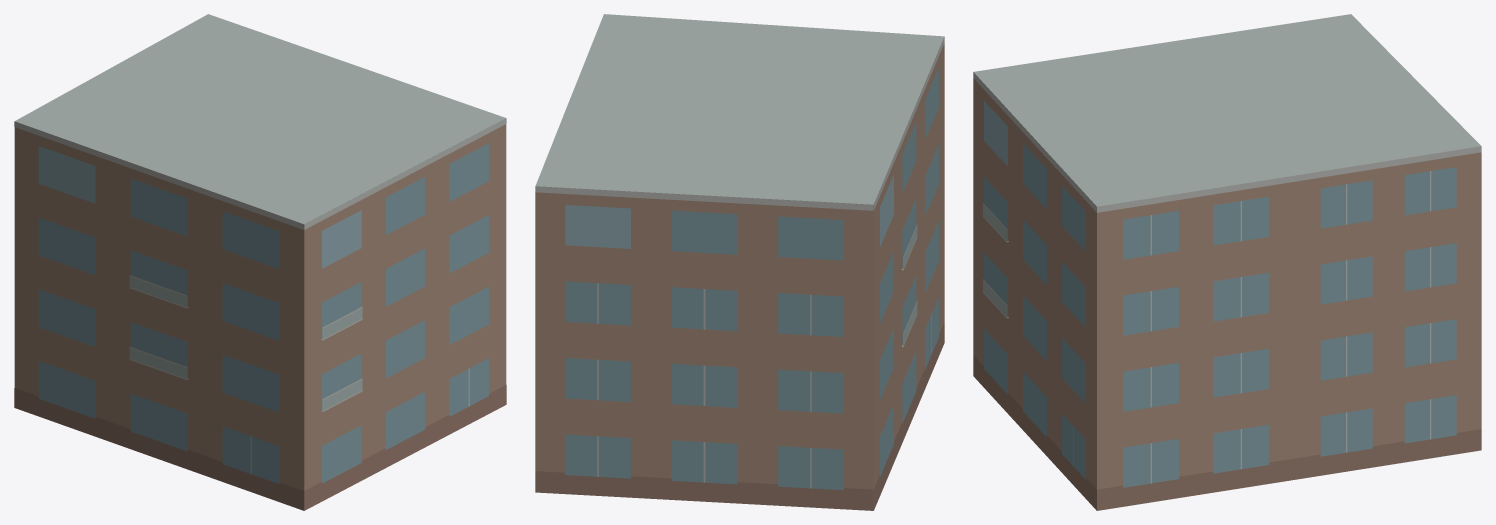
The model's file is residential-a3561ee7-c62a-4881-8d3a-ff3fc19cff1a.glb.
The picture shows the model from 3 angles, left to right: view 1: azimuth 30°, elevation 25°; view 2: azimuth 150°, elevation 25°; view 3: azimuth 270°, elevation 25°; orthographic projection. The views are drawn at different scales.
Visible parts, largest first — view 1: residential-a3561ee7-c62a-4881-8d3a-ff3fc19cff1a.tmp; view 2: residential-a3561ee7-c62a-4881-8d3a-ff3fc19cff1a.tmp; view 3: residential-a3561ee7-c62a-4881-8d3a-ff3fc19cff1a.tmp.
Boxes of the visible parts, box(x1,y1,x2,y2) form: residential-a3561ee7-c62a-4881-8d3a-ff3fc19cff1a.tmp: box(14, 14, 506, 510); residential-a3561ee7-c62a-4881-8d3a-ff3fc19cff1a.tmp: box(535, 14, 944, 510); residential-a3561ee7-c62a-4881-8d3a-ff3fc19cff1a.tmp: box(973, 14, 1481, 510).
Size of the model in its own units: 16.59 by 12.2 by 18.49.
